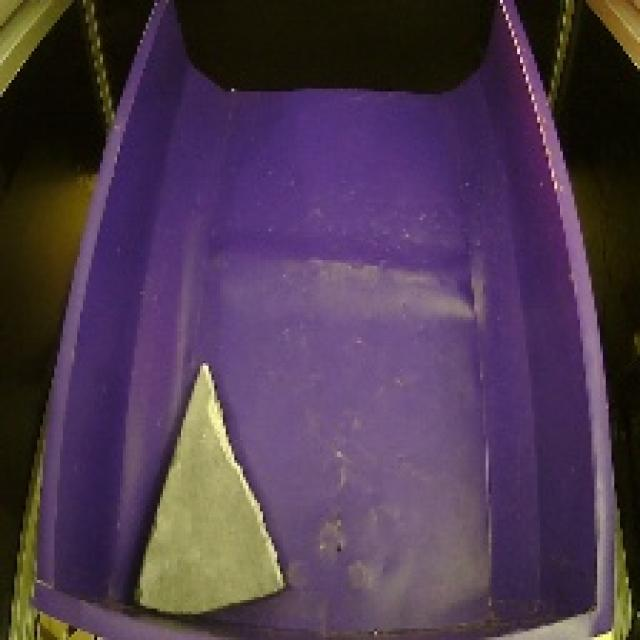china: (117, 353, 296, 625)
